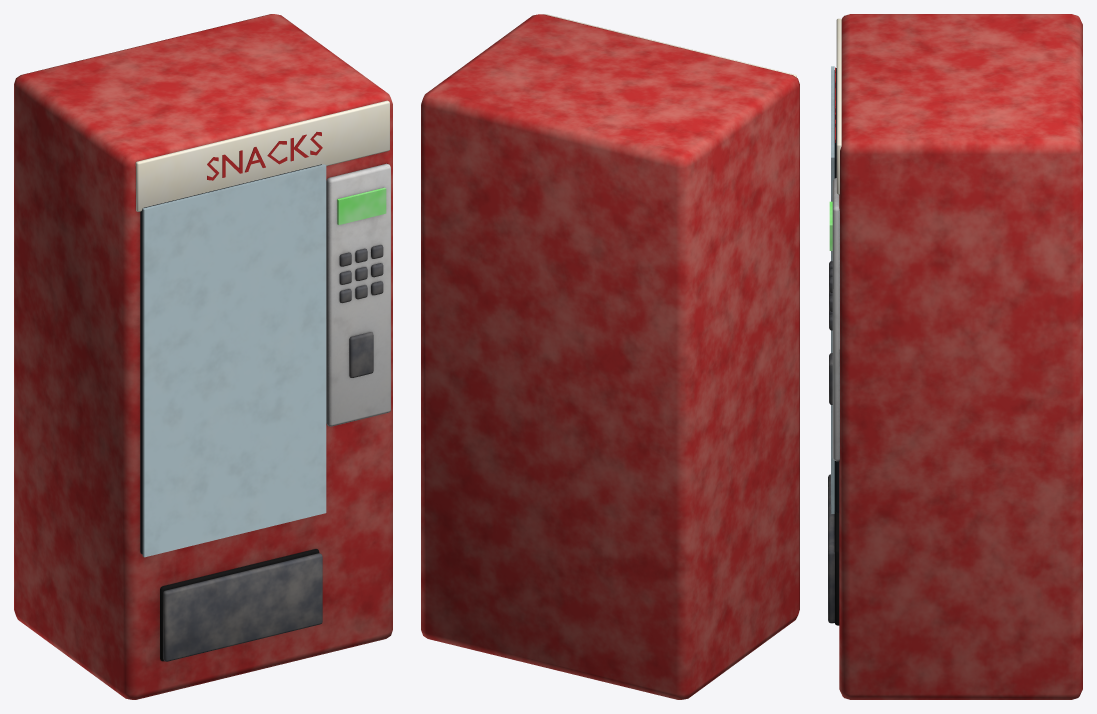
File: vending_machine.fbx
3 views of the same model, side by side, from view 1: azimuth 30°, elevation 25°; view 2: azimuth 150°, elevation 25°; view 3: azimuth 270°, elevation 25° (orthographic). The views are drawn at different scales.
Parts seen in each view (by area): view 1: Body, Glow, Flap, Button; view 2: Body; view 3: Body, Glow, Flap.
Boxes of the visible parts, x1,y1,x2,y2 form: Body: [14, 14, 392, 699]; Glow: [135, 100, 389, 224]; Flap: [163, 553, 322, 661]; Button: [339, 245, 383, 303]; Body: [421, 14, 799, 699]; Body: [829, 14, 1082, 699]; Glow: [829, 18, 841, 250]; Flap: [828, 474, 834, 623].
Size of the model in its own units: 3.4 by 6.6 by 2.72.
1 material, 1 textured.
